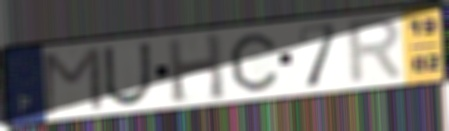7: (298, 21, 339, 90)
C: (227, 31, 280, 94)
H: (164, 30, 228, 104)
M: (40, 44, 106, 118)
R: (346, 14, 407, 87)
U: (100, 40, 153, 108)
